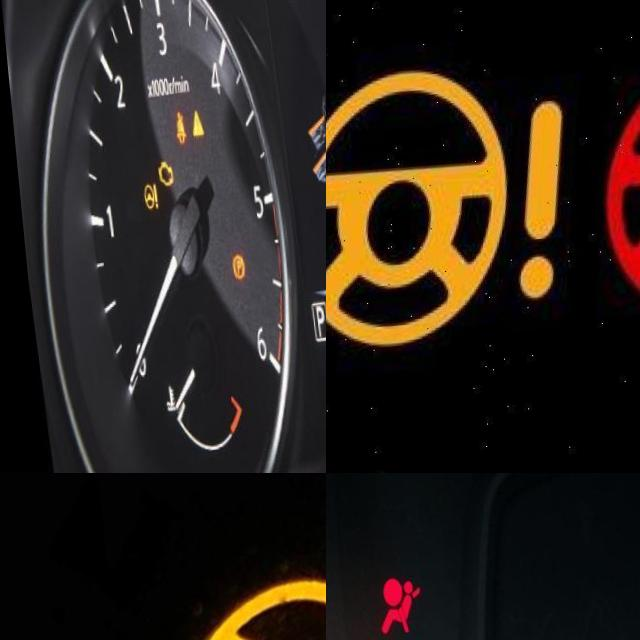Electronic Power Steering: (133, 185, 159, 216)
Electronic Power Steering Warning: (326, 56, 574, 352)
Seat Belt: (169, 114, 184, 148)
